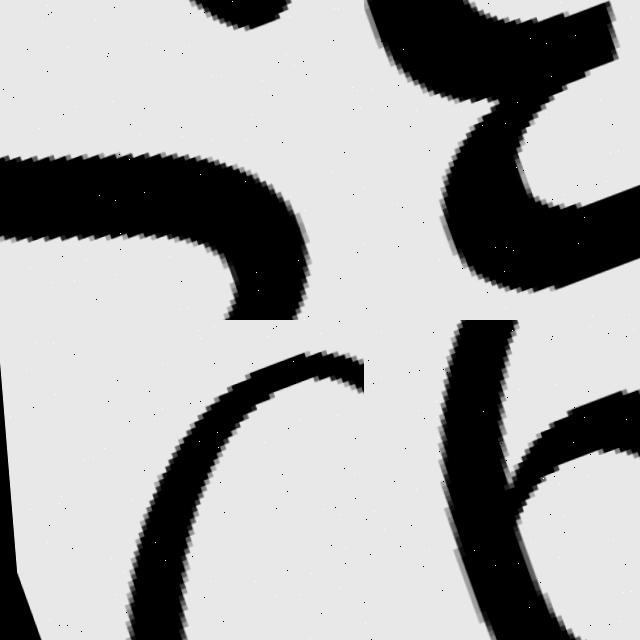3: (364, 0, 640, 320)
9: (364, 320, 640, 640)
P: (121, 355, 364, 640)
S: (0, 0, 364, 320)
